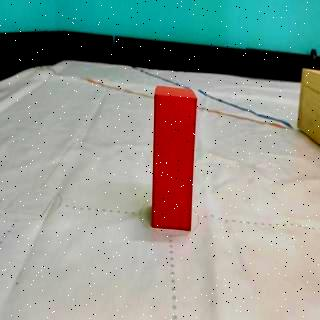redbox: (153, 85, 197, 231)
